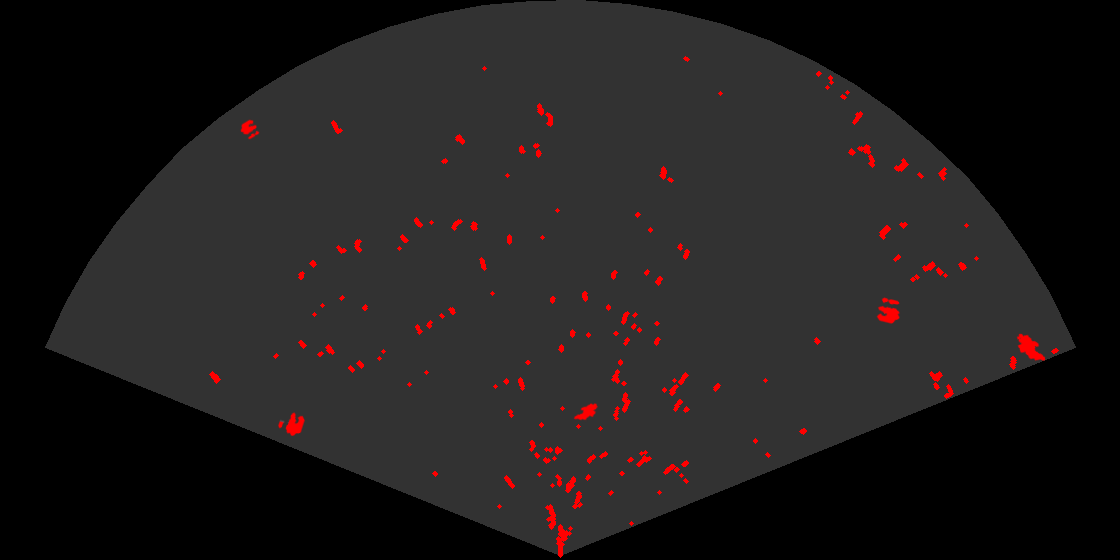AUV: (1015, 332, 1047, 362), (572, 402, 600, 423)
ball: (277, 411, 306, 438), (875, 296, 901, 325), (239, 118, 261, 141)
